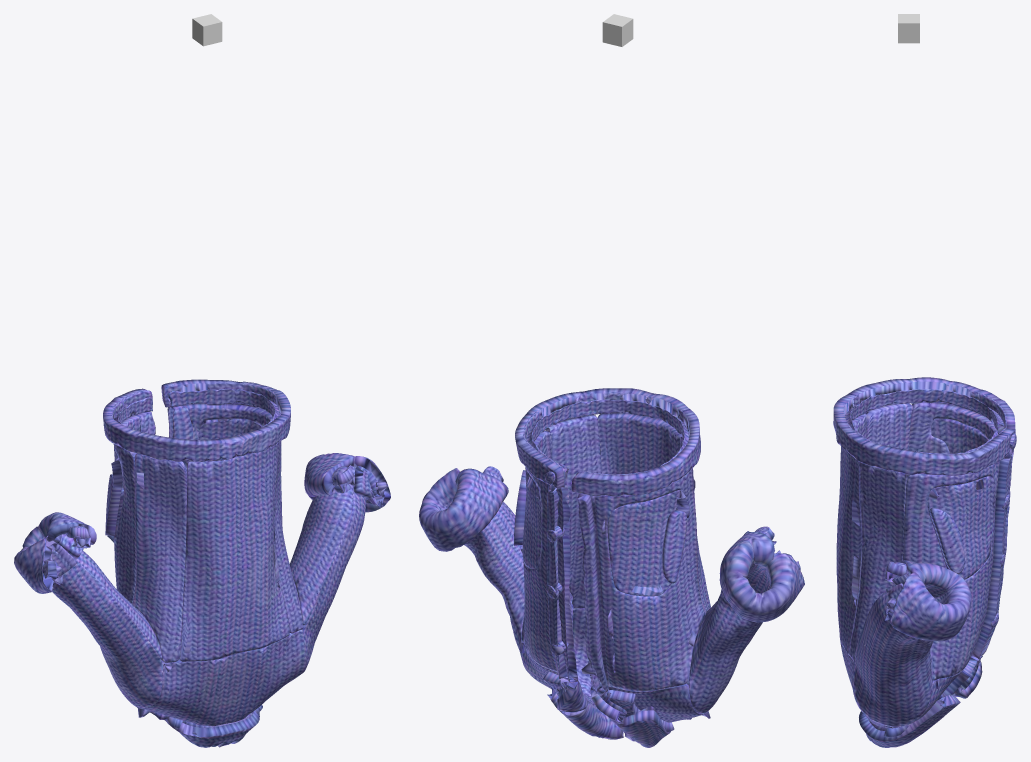
The model's file is Jacket.glb.
3 renders of one model, left to right at view 1: azimuth 30°, elevation 25°; view 2: azimuth 150°, elevation 25°; view 3: azimuth 270°, elevation 25°, orthographic. The views are drawn at different scales.
Parts seen in each view (by area): view 1: SKM_man_med_nrw_Jacket, Cube; view 2: SKM_man_med_nrw_Jacket, Cube; view 3: SKM_man_med_nrw_Jacket, Cube.
Part boxes in pixels (x1=…): SKM_man_med_nrw_Jacket: x1=14, y1=379, x2=390, y2=747; Cube: x1=192, y1=14, x2=222, y2=46; SKM_man_med_nrw_Jacket: x1=419, y1=388, x2=804, y2=747; Cube: x1=602, y1=14, x2=633, y2=46; SKM_man_med_nrw_Jacket: x1=833, y1=377, x2=1016, y2=747; Cube: x1=898, y1=14, x2=919, y2=43.
Bounding box in the file's own units: 37.69 × 72.2 × 16.65.
Materials: 2 (1 with a texture image).
